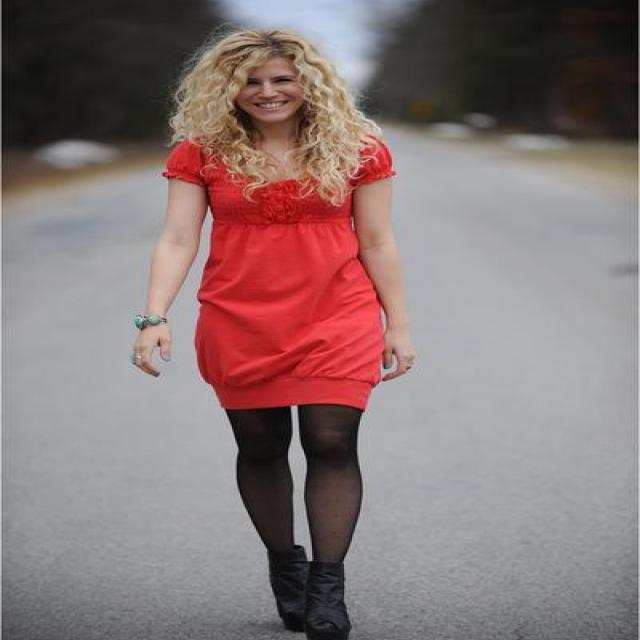dress: (162, 141, 394, 421)
shoe: (261, 530, 350, 639)
